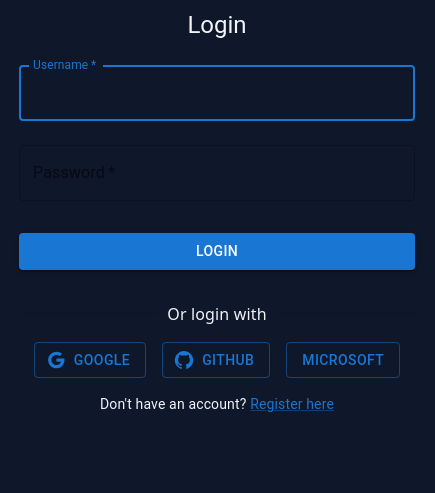
it: LoginPage › shows the no-token error when response has no user
Step 1. Type "Ada" into the field labelled "Username *" → (217, 93), box [19,65,415,121]
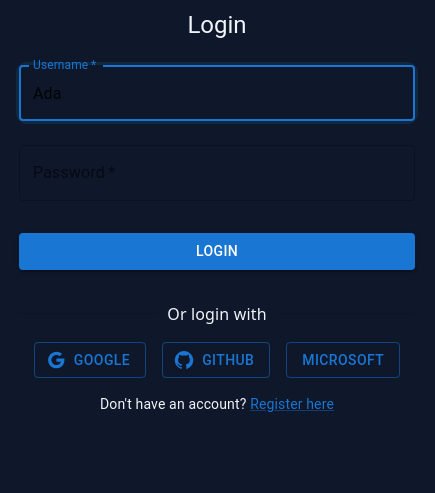
Step 2. Type "s3cret" into the password field labelled "Password *" → (217, 173), box [19,145,415,201]
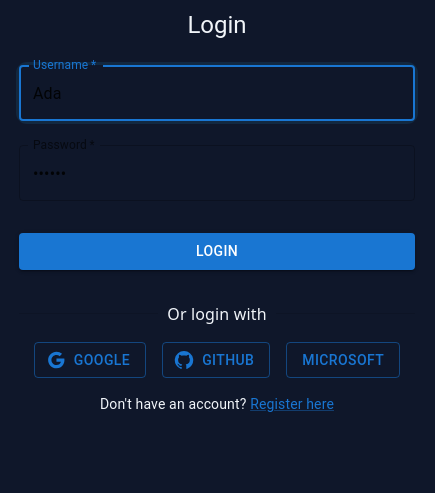
Step 3. Click the button "Login" → (217, 251), box [19,233,415,270]
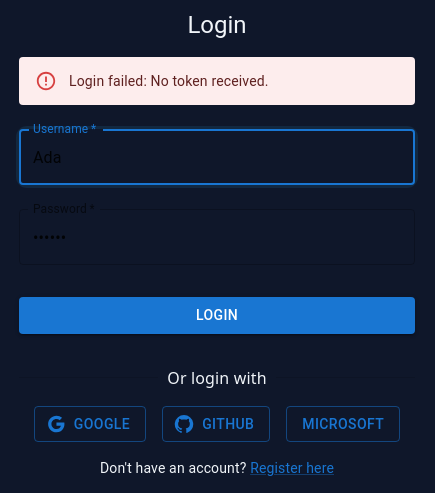
Result: the message reads "Login failed: No token received." at [69,73,269,89]
